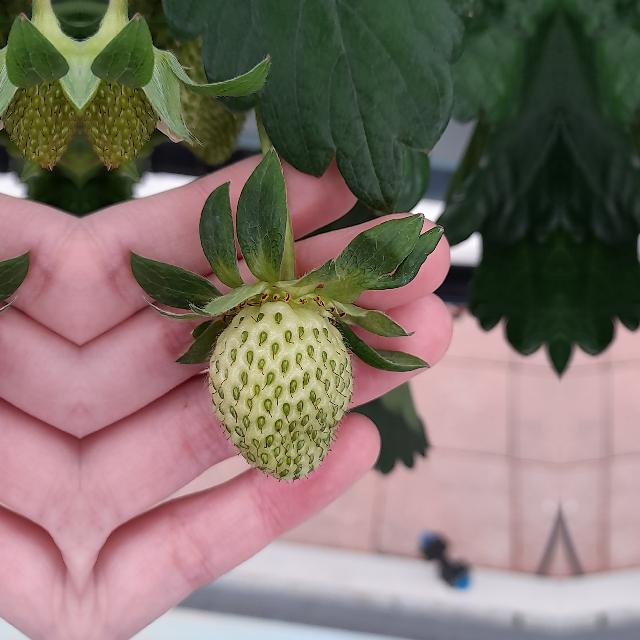Health_25: (208, 300, 352, 480), (84, 32, 156, 172), (4, 32, 76, 172)
